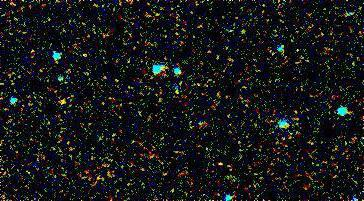star: (47, 85, 77, 115)
